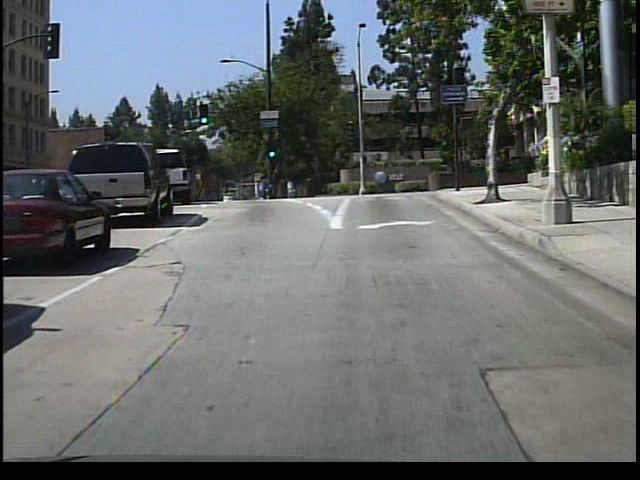person: (255, 169, 274, 203), (283, 174, 298, 201)
